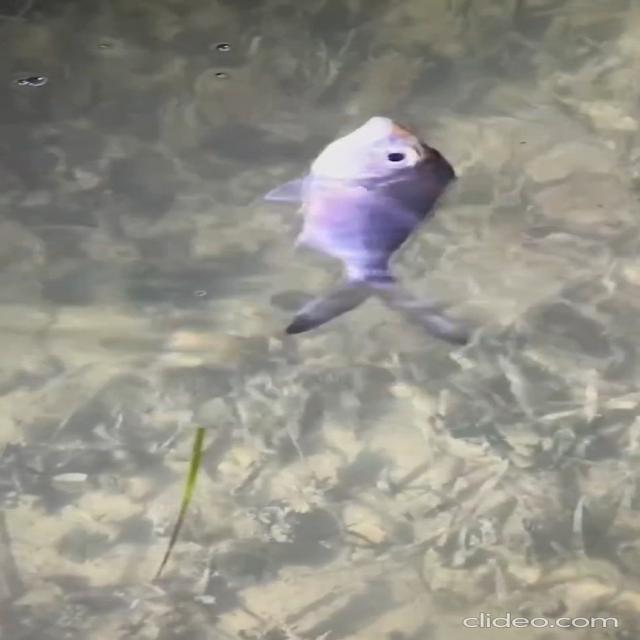fish: (262, 110, 494, 365)
